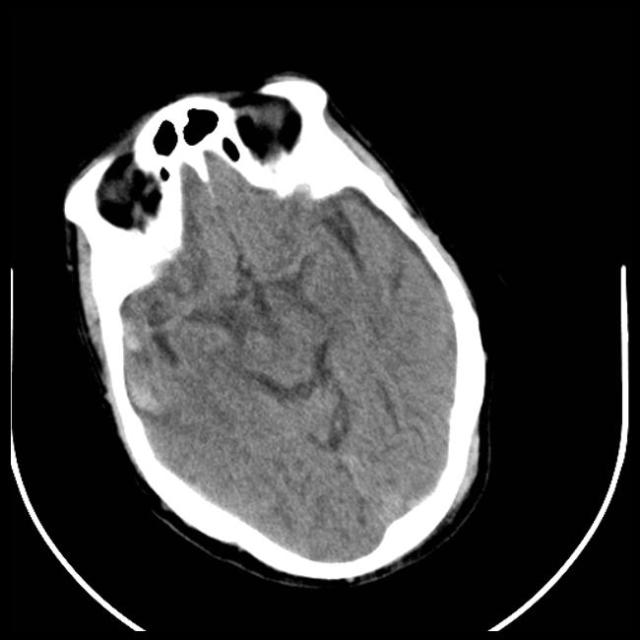lesion: (59, 70, 493, 583)
